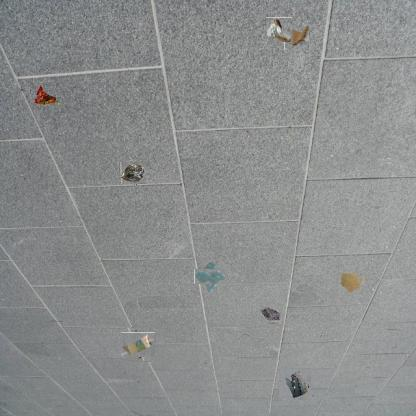dirty: (124, 330, 153, 360), (281, 371, 310, 400), (119, 160, 144, 186), (267, 17, 292, 43), (30, 82, 57, 106), (284, 26, 309, 50), (259, 304, 282, 327)
liquid: (339, 270, 365, 296), (198, 265, 221, 288)
